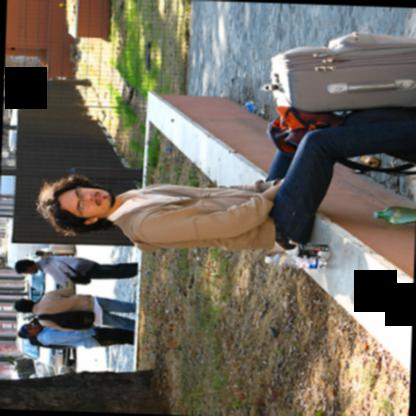backpack: (264, 104, 347, 157), (38, 309, 96, 330)
handbag: (39, 257, 92, 284)
suitcase: (270, 31, 416, 112)
